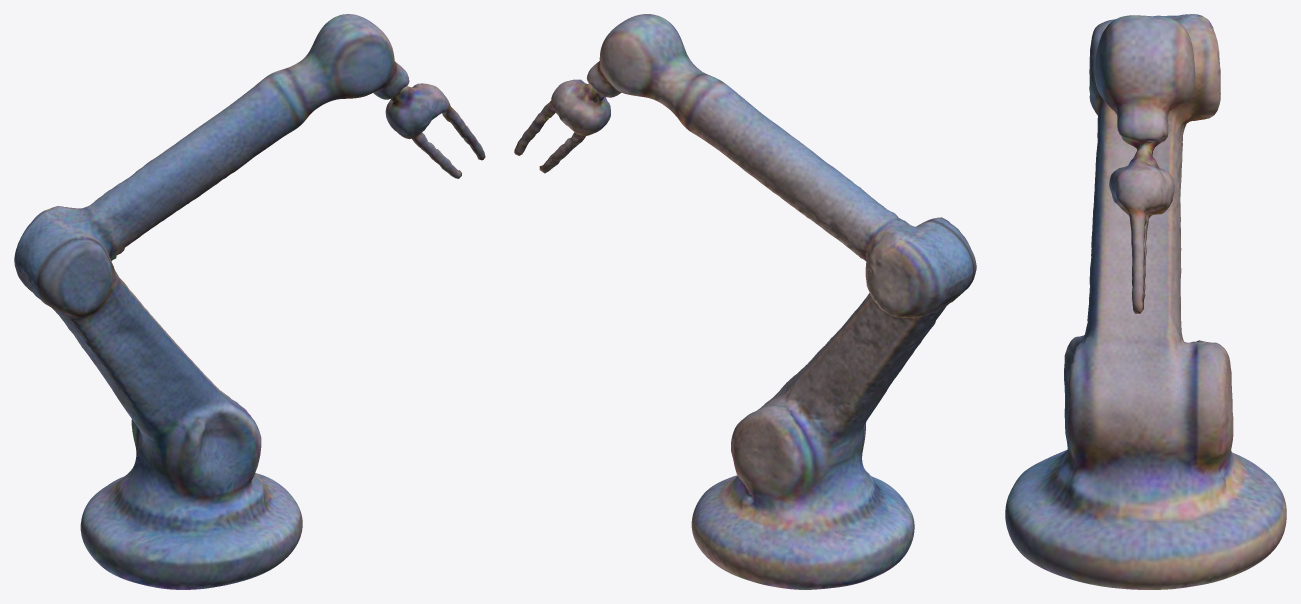
3 renders of one model, left to right at view 1: azimuth 30°, elevation 25°; view 2: azimuth 150°, elevation 25°; view 3: azimuth 270°, elevation 25°, orthographic. The views are drawn at different scales.
Visible parts, largest first — view 1: Mesh1; view 2: Mesh1; view 3: Mesh1.
Boxes of the visible parts, x1=… form: Mesh1: x1=14, y1=14, x2=485, y2=589; Mesh1: x1=514, y1=14, x2=976, y2=589; Mesh1: x1=1005, y1=14, x2=1286, y2=589.
Bounding box in the file's own units: 1.14 × 1.2 × 0.4817.
1 material, 1 textured.
